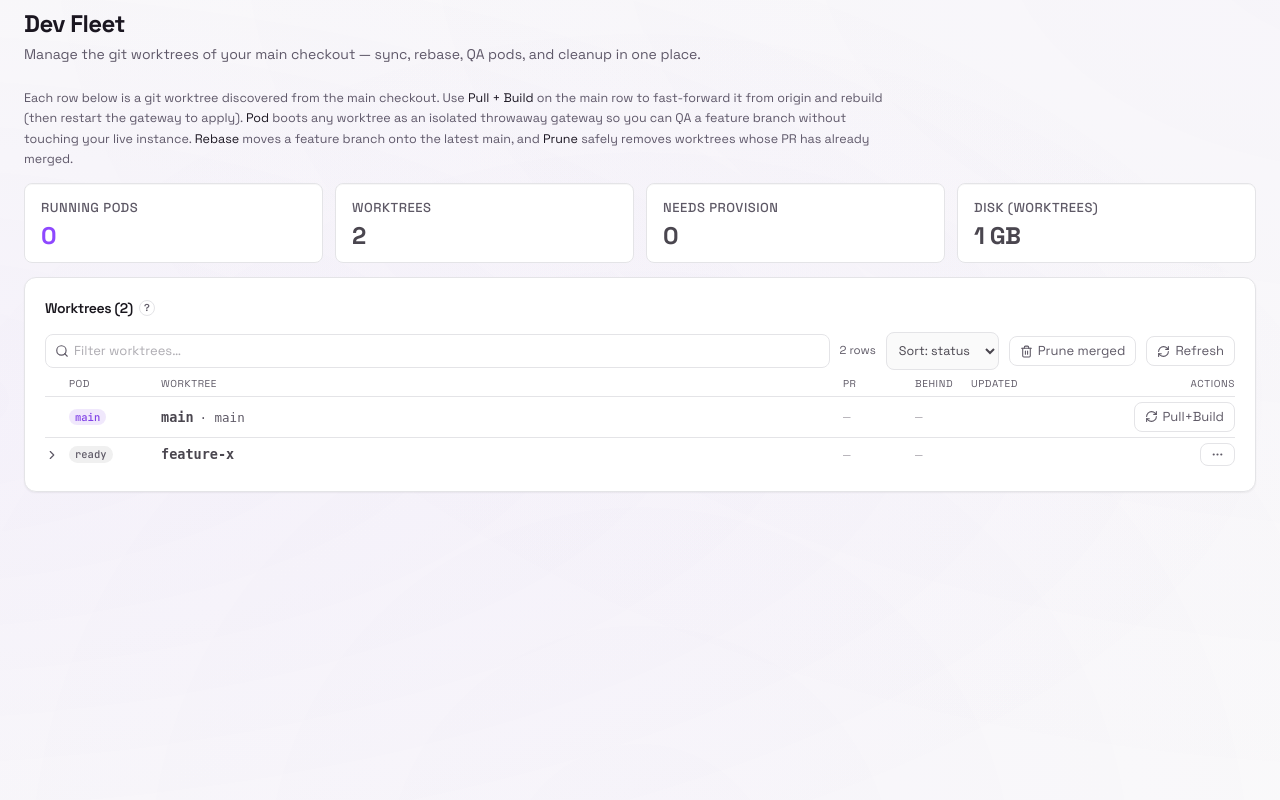
Test: DevFleetPage › shows "Make live" in the row menu for a non-live worktree and opens a confirm dialog
Expected: the text "feature-x" is shown, [161,444,234,465]
Only the non-main row has a "More actions" menu.
Click the button named "More actions" at {"x": 1218, "y": 454}, box [1200,443,1235,466]
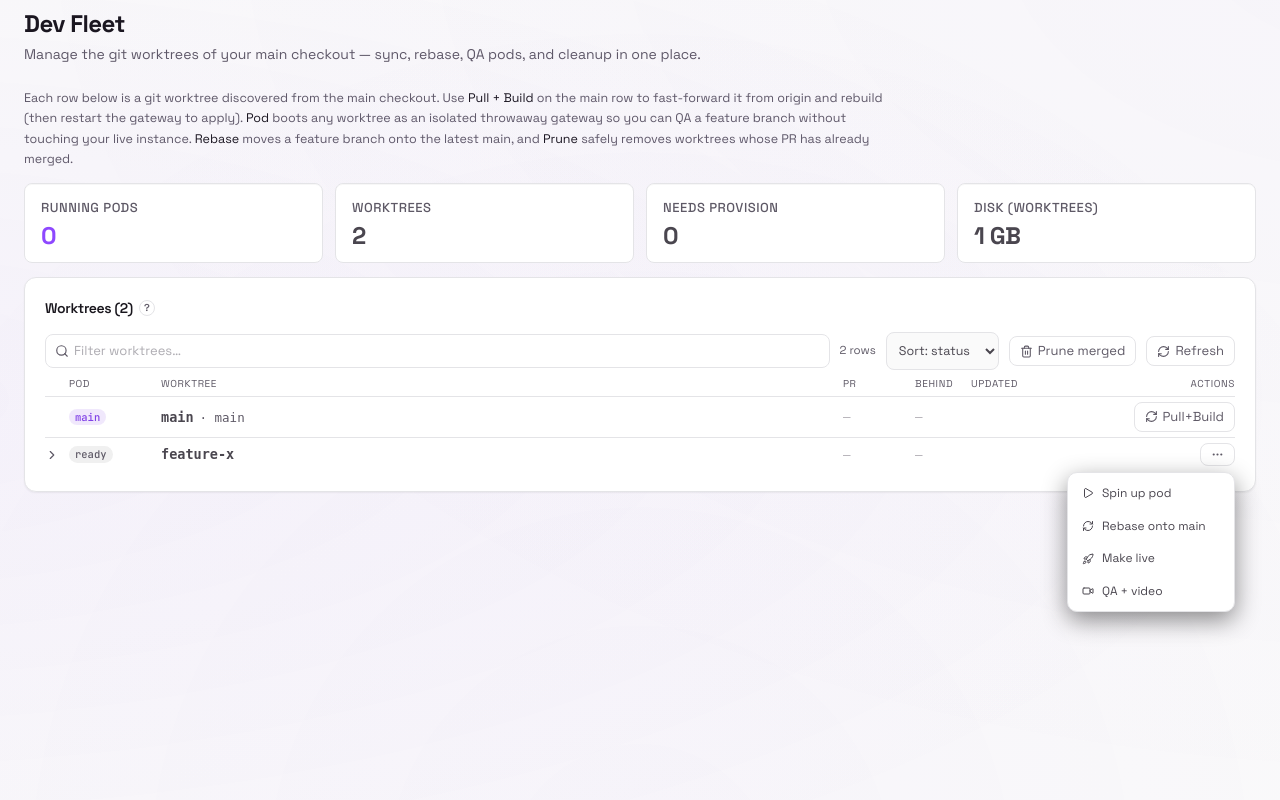
Click the button "Make live" at {"x": 1118, "y": 558}, box [1082,550,1155,566]
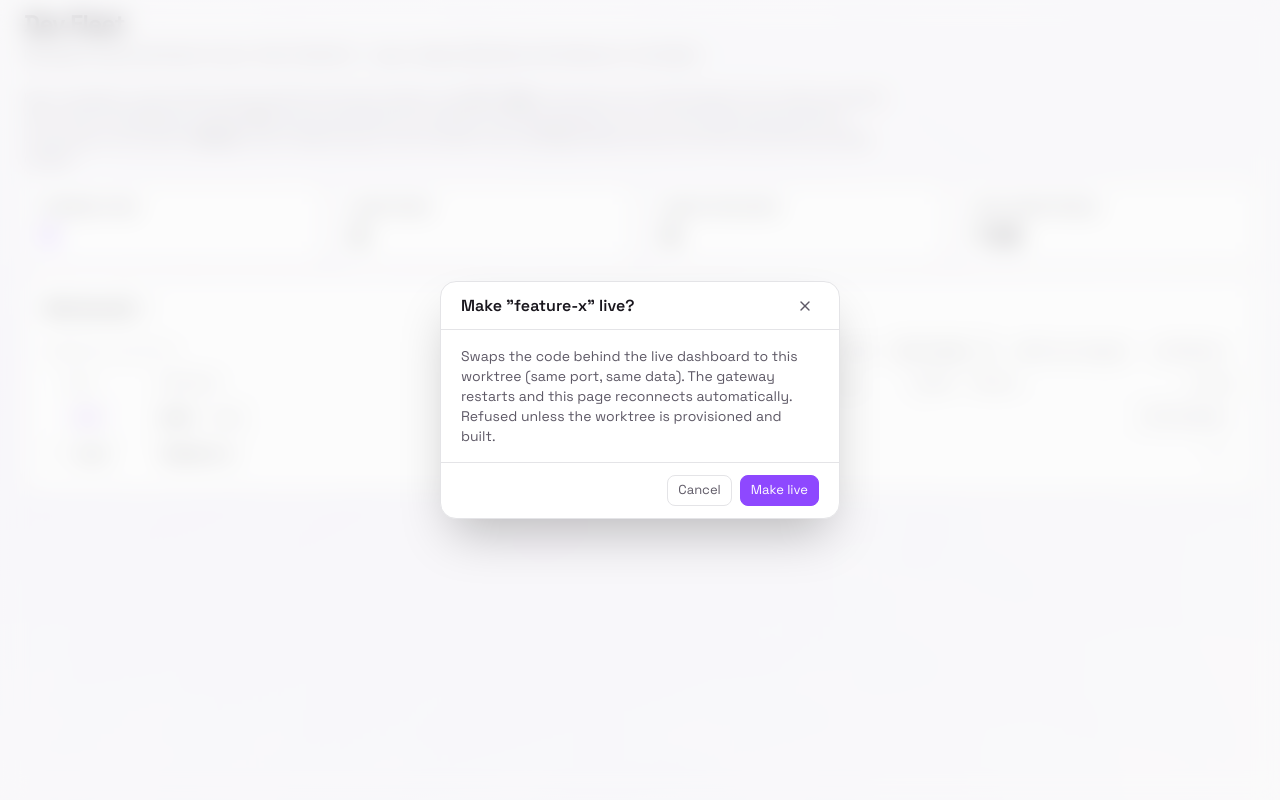
Expected: the dialog is shown, [440,281,840,518]
Expected: the text "Make \"feature-x\" live?" is shown, [461,294,634,318]
